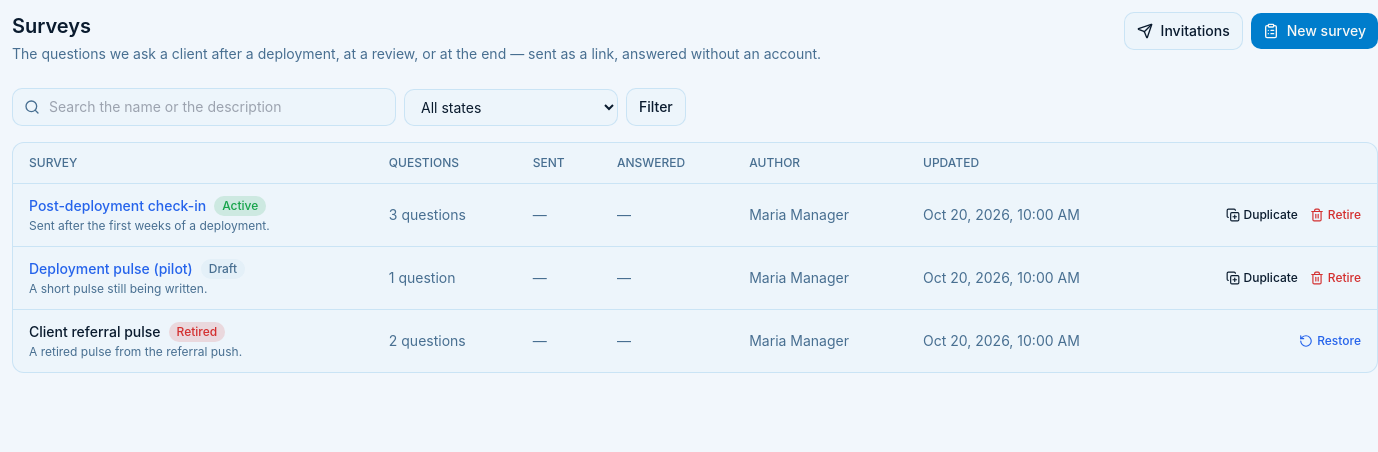
Survey library › retires a survey and says what that means for what it gathered
This screenshot has width=1378, height=452.
Step 1. Click the button "Retire" in the row of "Post-deployment check-in" → [1335, 215], box x1=1310 y1=207 x2=1361 y2=223
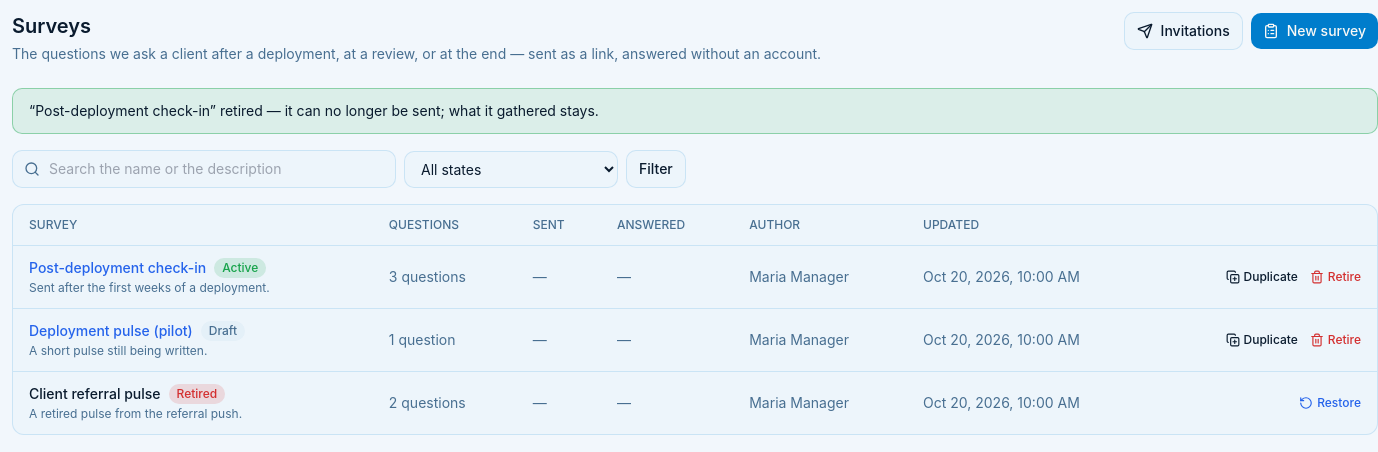
expect the text "retired — it can no longer be sent" is shown: met, box x1=29 y1=102 x2=599 y2=119
